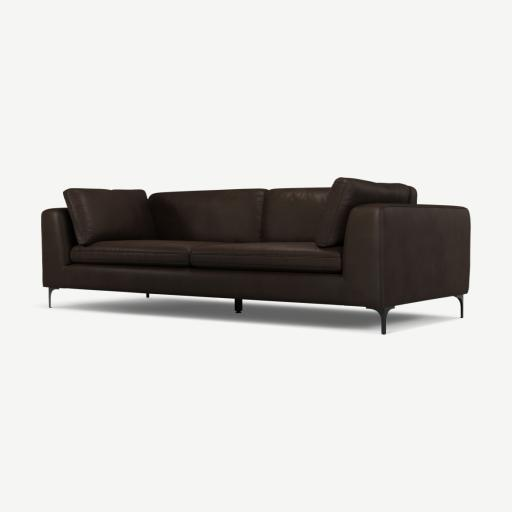back_cushion: (63, 178, 416, 247)
base: (64, 264, 377, 305)
left_arm: (341, 204, 470, 306)
legs: (367, 306, 394, 335), (48, 288, 59, 307), (456, 295, 463, 317), (235, 299, 242, 313)
right_arm: (42, 209, 76, 294)
seat_cushion: (70, 240, 343, 273)
two-seater: (0, 0, 511, 512)
